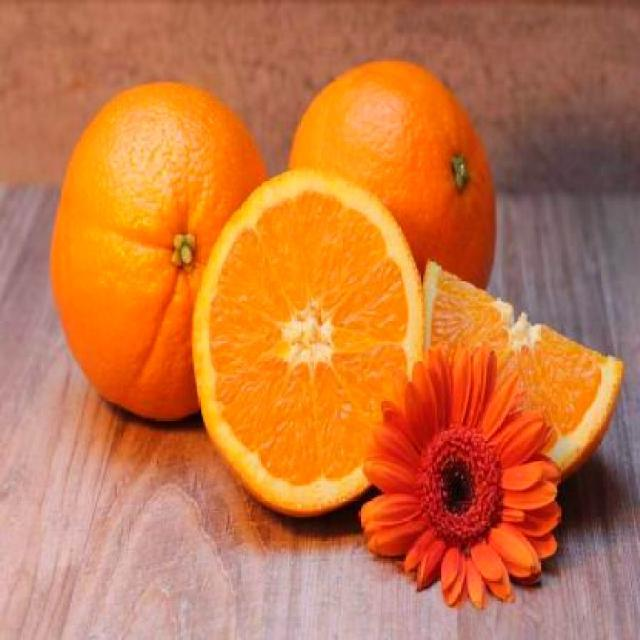Jeruk Sudah Matang: (54, 80, 272, 438), (286, 59, 500, 392)
